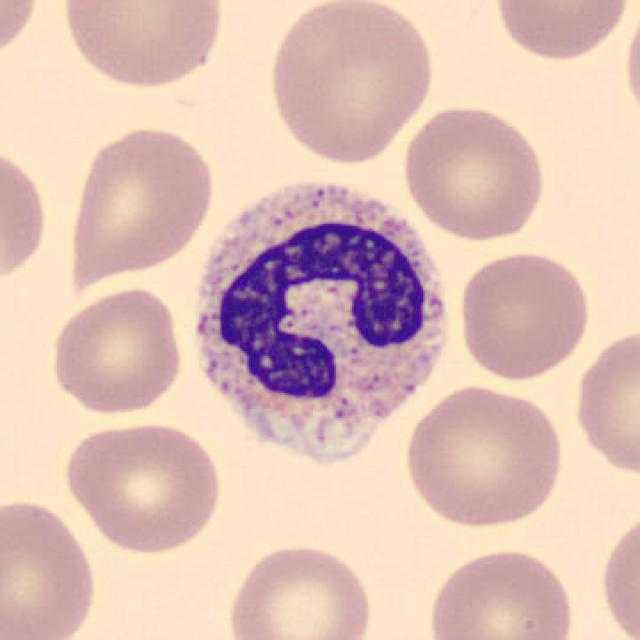Neutrophil: (180, 166, 462, 483)
RBC: (263, 0, 439, 167), (64, 120, 217, 287), (400, 381, 569, 531), (57, 418, 226, 557), (398, 100, 550, 244), (453, 245, 594, 383), (45, 284, 186, 418), (222, 537, 376, 640), (57, 0, 229, 92), (423, 543, 580, 640), (0, 493, 101, 640), (570, 320, 640, 481), (489, 0, 635, 63), (0, 139, 52, 291), (595, 502, 640, 639), (0, 0, 43, 69), (620, 0, 639, 130)
